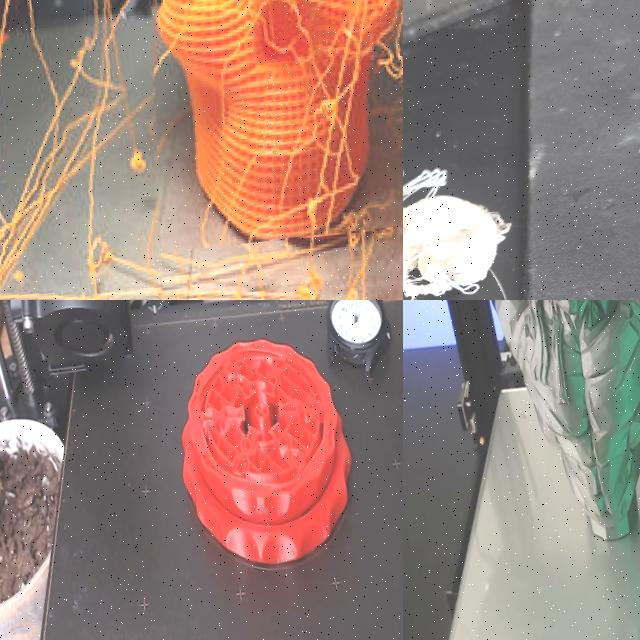spaghetti: (0, 0, 201, 300), (217, 247, 373, 300), (403, 151, 458, 237), (403, 260, 489, 300)
